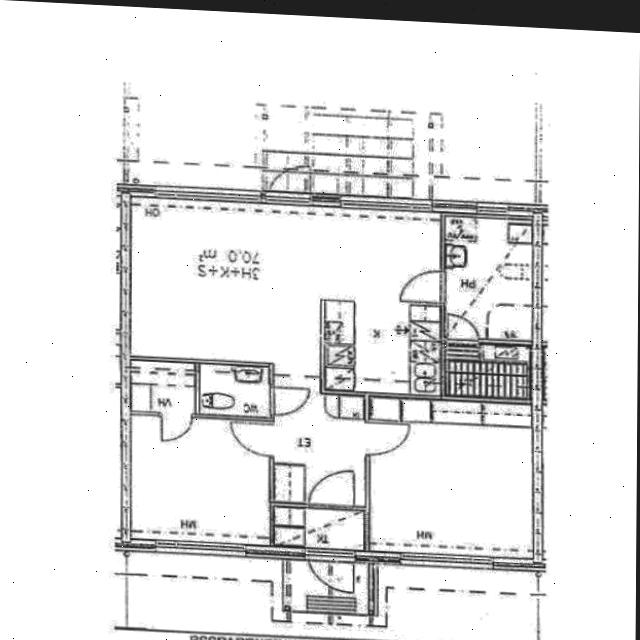room: (361, 397, 541, 559), (125, 415, 276, 545), (442, 213, 532, 343), (443, 343, 532, 399), (198, 363, 273, 418), (272, 507, 365, 550), (128, 360, 198, 414)
